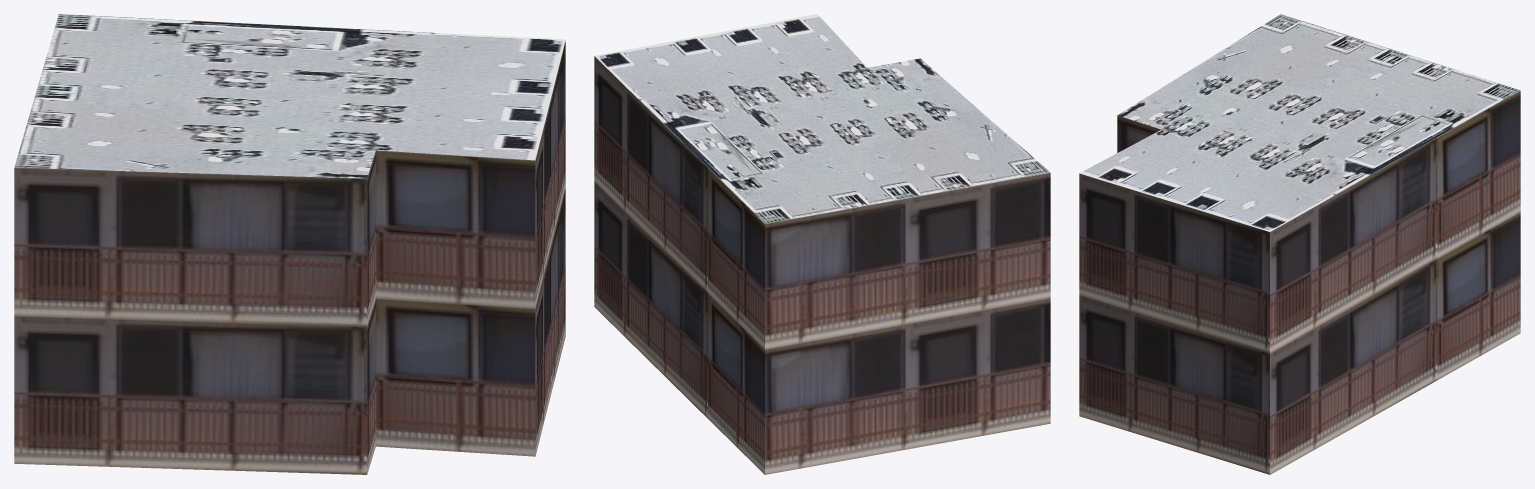
The model's file is ResTex__4909.fbx.
The picture shows the model from 3 angles, left to right: view 1: azimuth 30°, elevation 25°; view 2: azimuth 150°, elevation 25°; view 3: azimuth 270°, elevation 25°; orthographic projection. The views are drawn at different scales.
Parts seen in each view (by area): view 1: CityEngineMaterial_6_m, CityEngineMaterial_4_m; view 2: CityEngineMaterial_6_m, CityEngineMaterial_4_m; view 3: CityEngineMaterial_6_m, CityEngineMaterial_4_m.
Boxes of the visible parts, <box> form: CityEngineMaterial_6_m: <box>14,41,565,474</box>; CityEngineMaterial_4_m: <box>14,14,565,178</box>; CityEngineMaterial_6_m: <box>594,56,1050,474</box>; CityEngineMaterial_4_m: <box>594,14,1049,223</box>; CityEngineMaterial_6_m: <box>1079,90,1520,474</box>; CityEngineMaterial_4_m: <box>1079,14,1520,231</box>.
Size of the model in its own units: 11.55 by 6 by 9.89.
2 materials, 2 textured.
